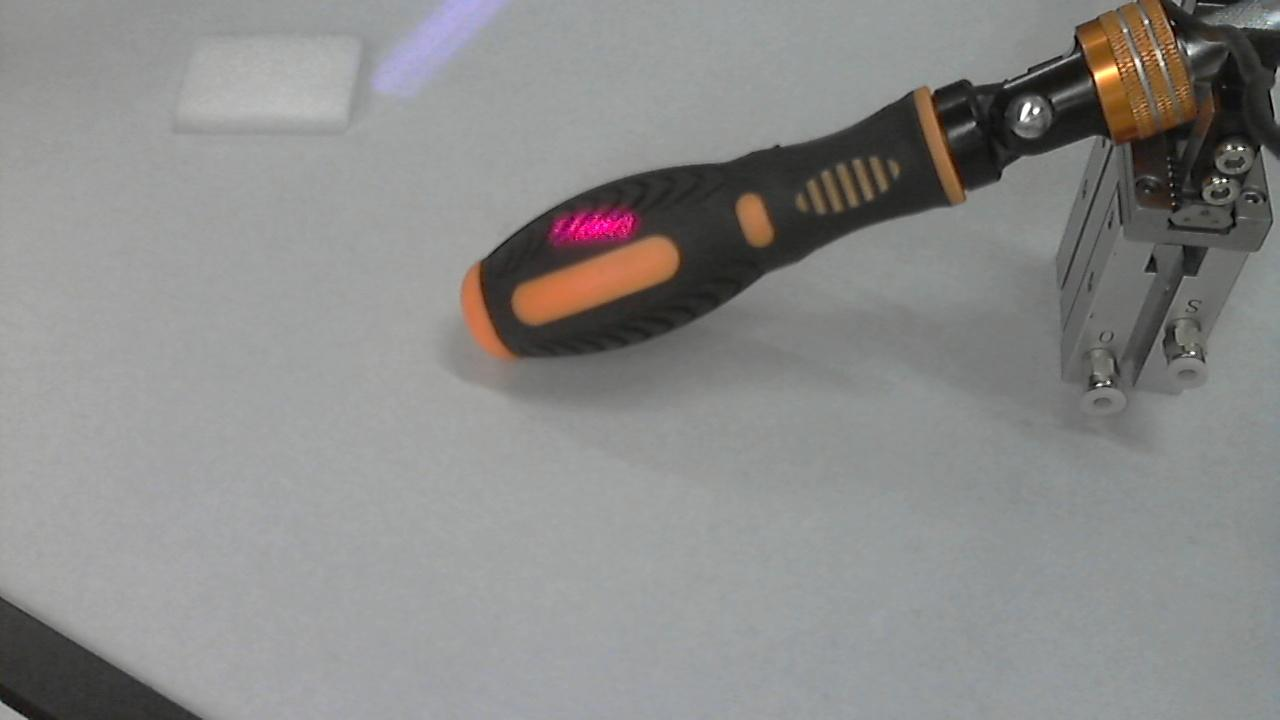Object precision screwdriver - Material rubber - Color black and orange - Pdfnam: (525, 202, 646, 255)
